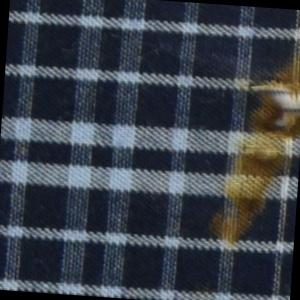Damage: (251, 74, 300, 148)
Oil Stain: (206, 39, 300, 257)
